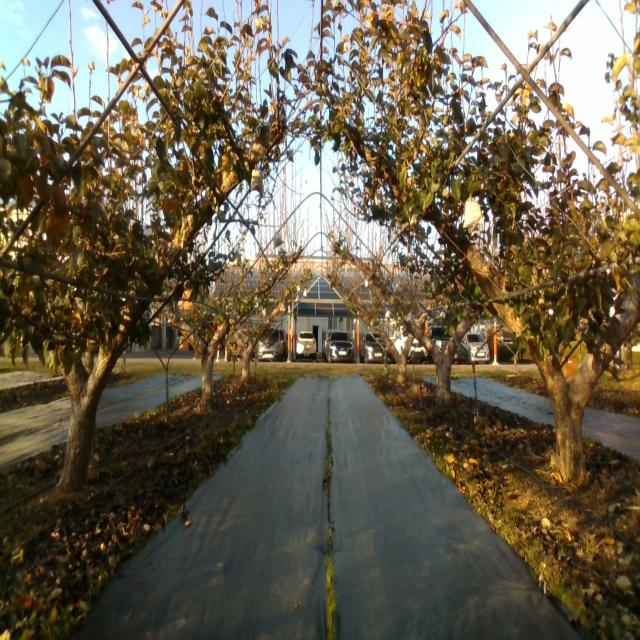pearbags: (462, 195, 486, 232), (251, 168, 263, 194)
